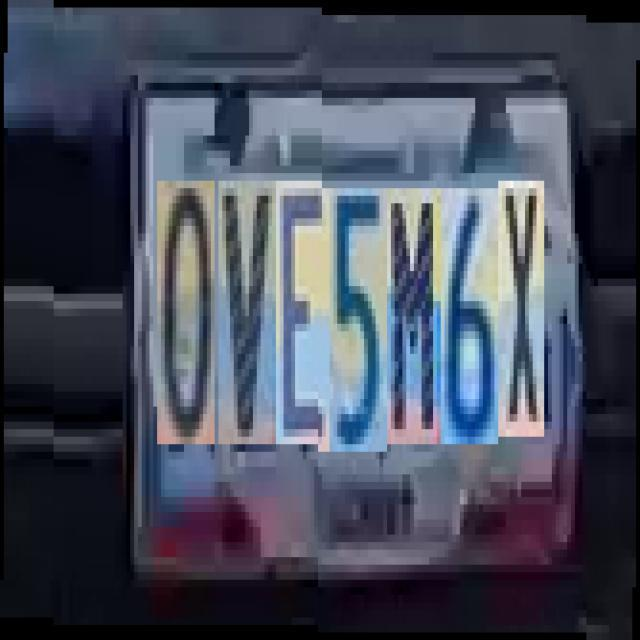5: (330, 180, 388, 444)
6: (441, 180, 498, 437)
E: (276, 180, 330, 444)
M: (388, 180, 440, 437)
O: (157, 180, 215, 444)
V: (218, 180, 276, 444)
X: (498, 173, 544, 429)
